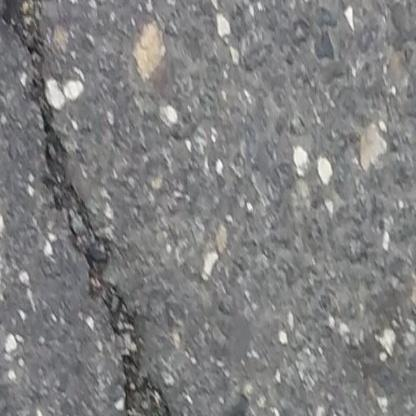Cracks: (0, 0, 190, 416)
